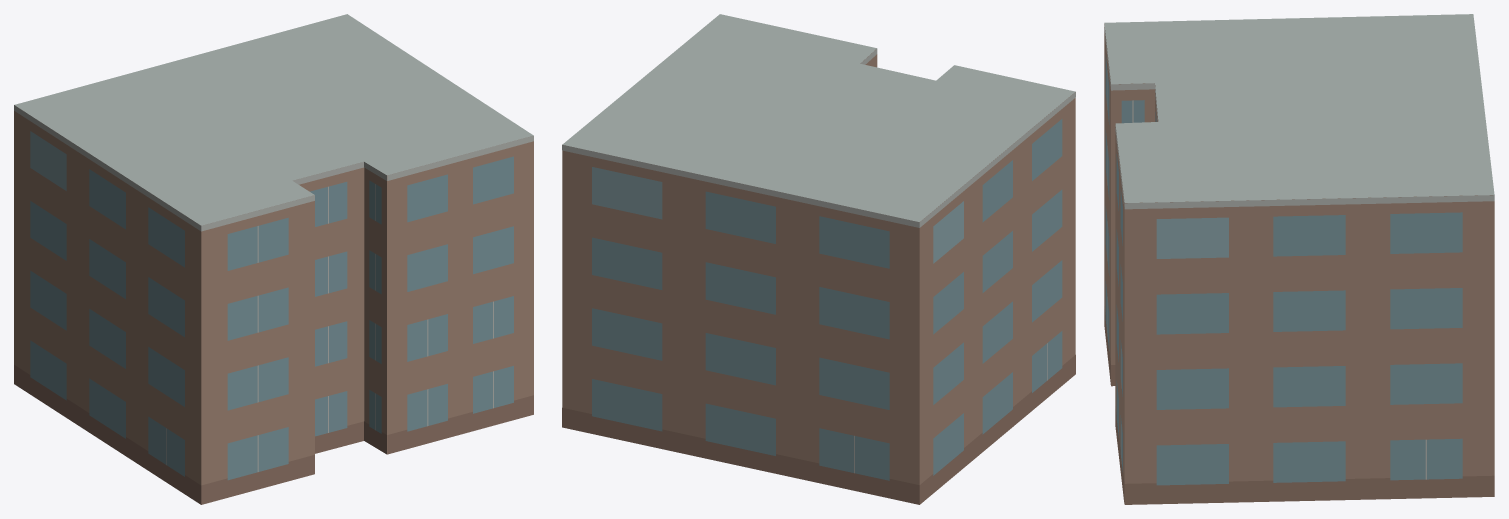
File: survey-upis-32675510.glb
3 views of the same model, side by side, from view 1: azimuth 30°, elevation 25°; view 2: azimuth 150°, elevation 25°; view 3: azimuth 270°, elevation 25° (orthographic). The views are drawn at different scales.
Visible parts, largest first — view 1: survey-upis-32675510.tmp; view 2: survey-upis-32675510.tmp; view 3: survey-upis-32675510.tmp.
Part boxes in pixels (bbox=[...]): survey-upis-32675510.tmp: bbox=[14, 14, 533, 504]; survey-upis-32675510.tmp: bbox=[562, 14, 1075, 504]; survey-upis-32675510.tmp: bbox=[1104, 14, 1494, 504].
Bounding box in the file's own units: 15.95 × 11.86 × 13.91.
